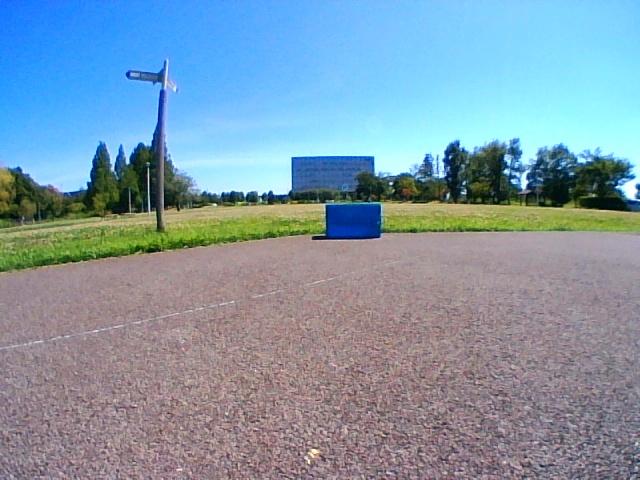blue_box: (326, 203, 380, 238)
